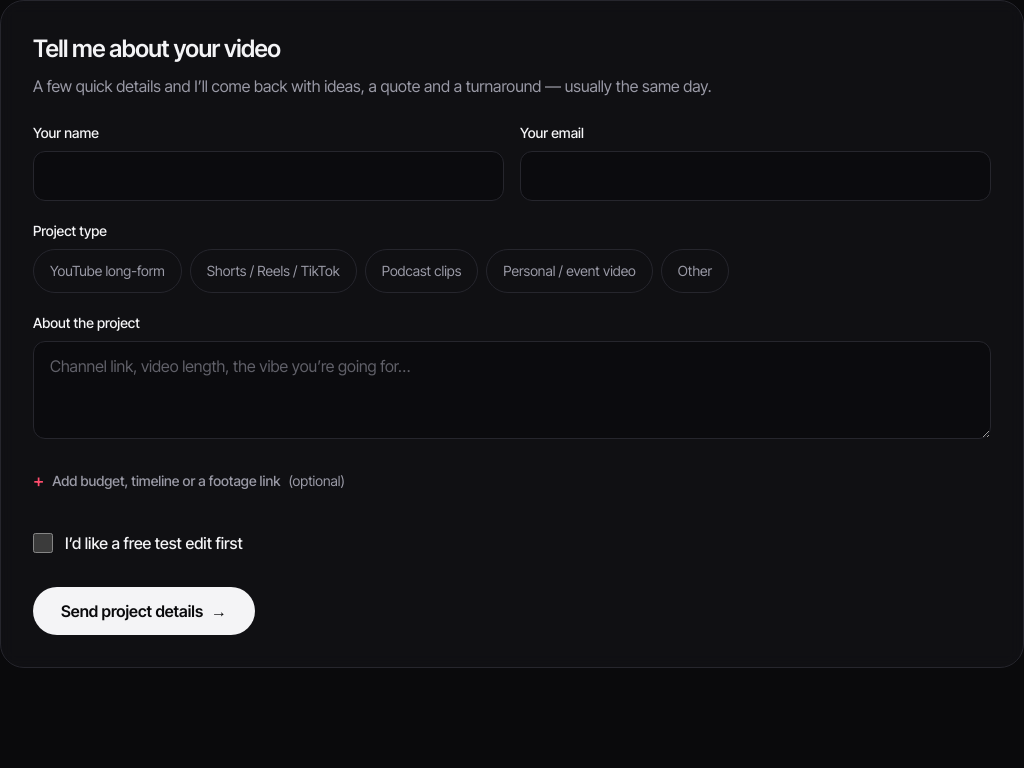
Test: InquiryForm › blocks an empty submit, marks required fields invalid and focuses the first one
Step 1. Click the button "Send project details →" → (144, 611), box [33, 587, 255, 635]
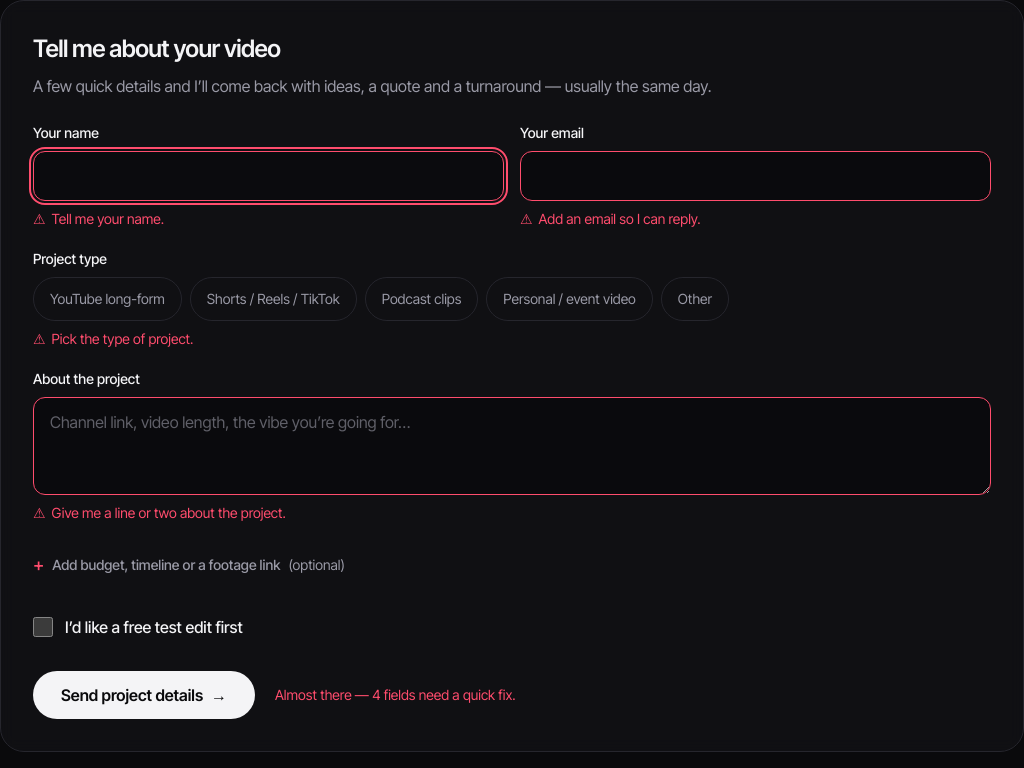
Expected: the message shows "4 fields", [275, 686, 516, 703]
